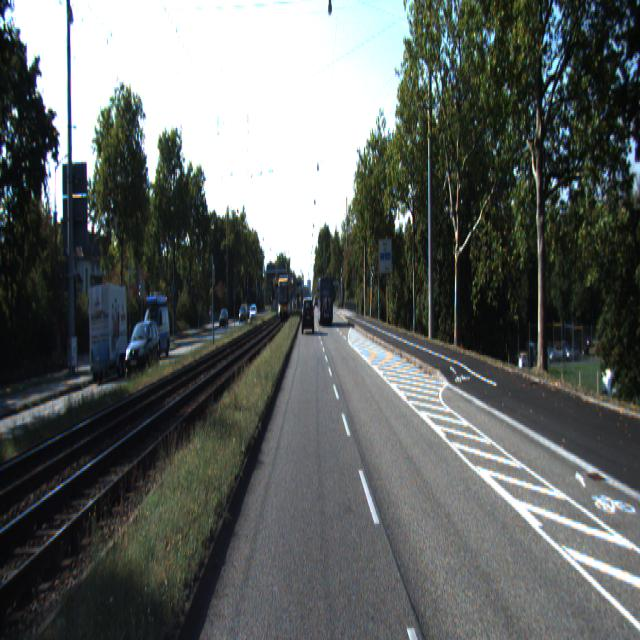Car: (88, 278, 129, 382), (123, 320, 162, 383), (140, 303, 171, 364), (317, 276, 334, 326), (302, 298, 314, 334)
